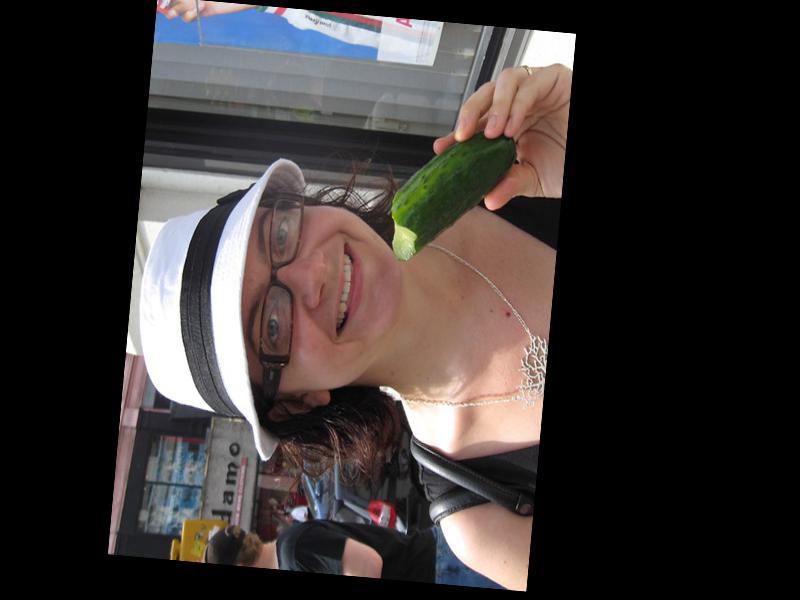Cucumber: (387, 121, 518, 267)
